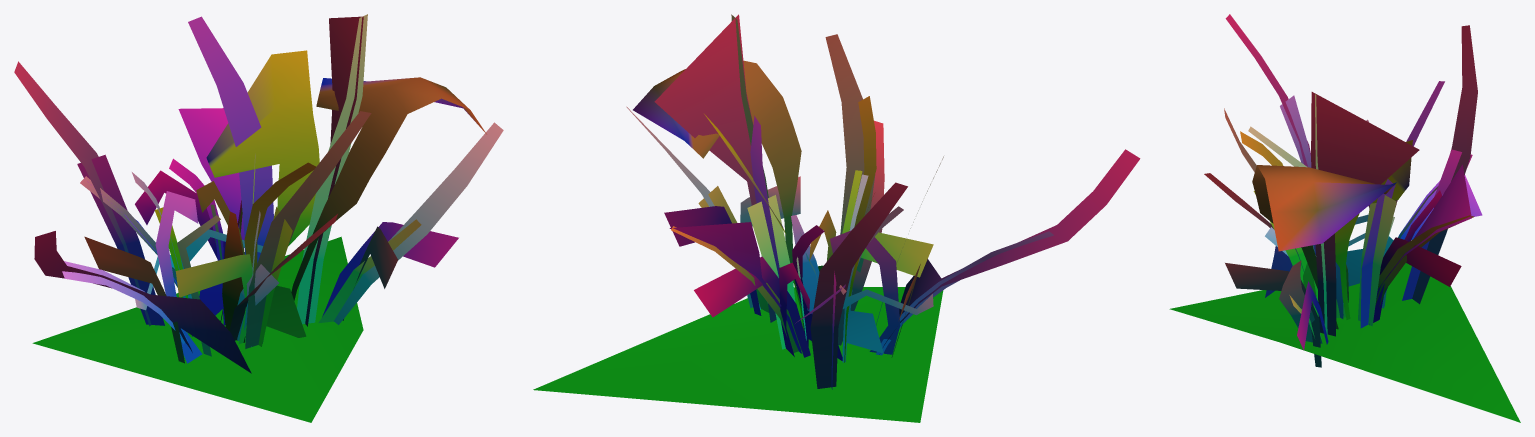
Rendered from Dry_Grass_tbbqejqr_Mid_tbbqejqr_VarD_LOD0.fbx.
3 renders of one model, left to right at view 1: azimuth 30°, elevation 25°; view 2: azimuth 150°, elevation 25°; view 3: azimuth 270°, elevation 25°, orthographic. The views are drawn at different scales.
Parts seen in each view (by area): view 1: _6bb6_VarD_LOD1; view 2: _6bb6_VarD_LOD1; view 3: _6bb6_VarD_LOD1.
Part boxes in pixels (x1,y1,x2,y2): _6bb6_VarD_LOD1: (14,14,503,422); _6bb6_VarD_LOD1: (533,14,1140,422); _6bb6_VarD_LOD1: (1169,14,1520,422).
Bounding box in the file's own units: 22.17 × 13.92 × 15.32.
